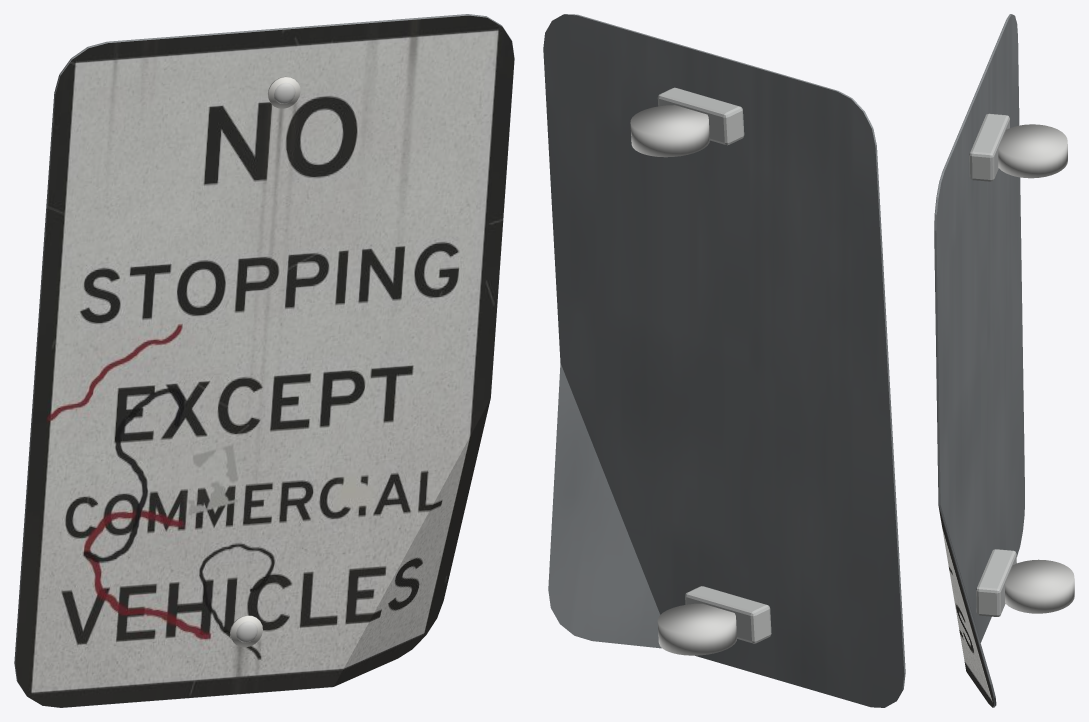
Rendered from regulatory-v1-battered.glb.
3 renders of one model, left to right at view 1: azimuth 30°, elevation 25°; view 2: azimuth 150°, elevation 25°; view 3: azimuth 270°, elevation 25°, orthographic. The views are drawn at different scales.
Visible parts, largest first — view 1: regulatory-v1-battered; view 2: regulatory-v1-battered; view 3: regulatory-v1-battered.
Boxes of the visible parts, x1,y1,x2,y2 form: regulatory-v1-battered: (14, 14, 514, 707); regulatory-v1-battered: (543, 14, 905, 707); regulatory-v1-battered: (934, 14, 1074, 707).
Bounding box in the file's own units: 0.3781 × 0.5465 × 0.1221.
Materials: 1 (1 with a texture image).
